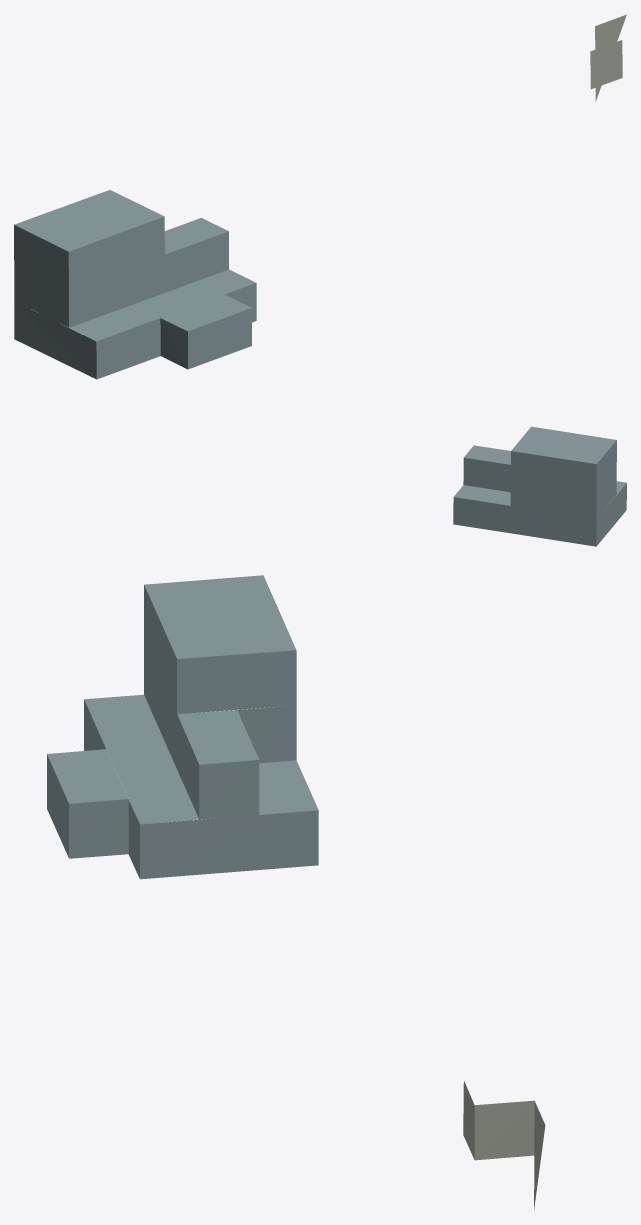
The picture shows the model from 3 angles, top to bottom: view 1: azimuth 30°, elevation 25°; view 2: azimuth 150°, elevation 25°; view 3: azimuth 270°, elevation 25°; orthographic projection. The views are drawn at different scales.
Parts seen in each view (by area): view 1: measured-industrial; view 2: measured-industrial; view 3: measured-industrial.
Part boxes in pixels (x1,y1,x2,y2): measured-industrial: (14,14,626,379); measured-industrial: (453,426,626,546); measured-industrial: (47,575,545,1209).
Bounding box in the file's own units: 29.22 × 4.53 × 13.51.
